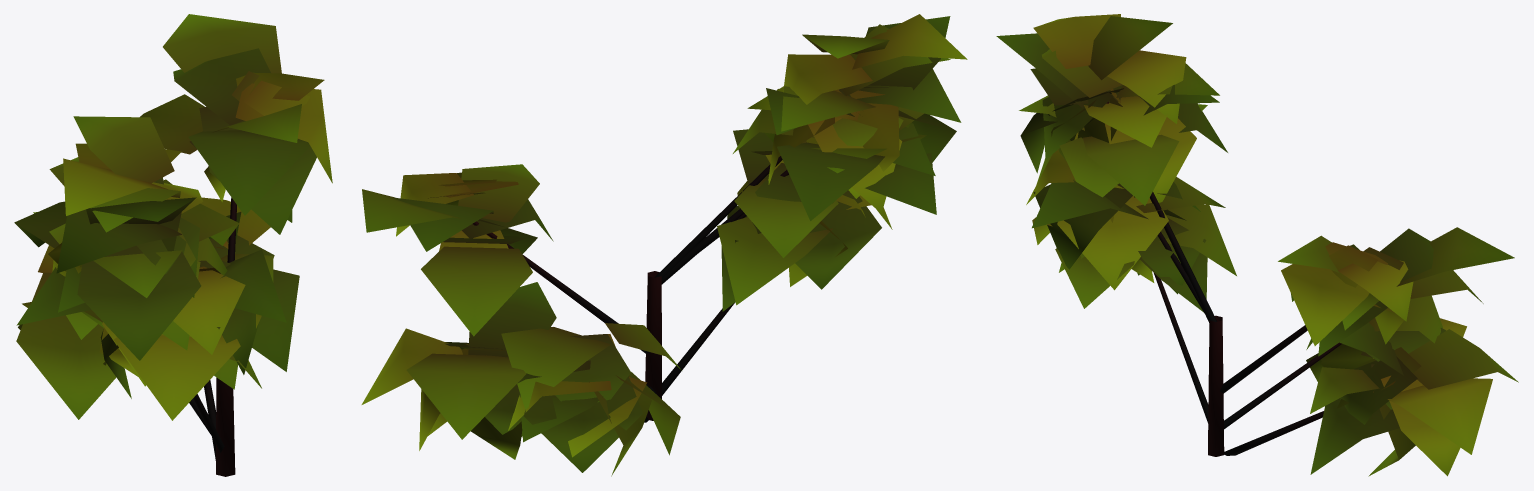
Rendered from broadleaf_b_high.glb.
3 renders of one model, left to right at view 1: azimuth 30°, elevation 25°; view 2: azimuth 150°, elevation 25°; view 3: azimuth 270°, elevation 25°, orthographic. The views are drawn at different scales.
Parts seen in each view (by area): view 1: broadleaf_b_high; view 2: broadleaf_b_high; view 3: broadleaf_b_high.
Boxes of the visible parts, left/top/right/bottom form: broadleaf_b_high: left=14, top=14, right=332, bottom=476; broadleaf_b_high: left=361, top=14, right=967, bottom=476; broadleaf_b_high: left=996, top=14, right=1518, bottom=476.
Size of the model in its own units: 5.82 by 5.22 by 6.93.
1 material, 1 textured.
